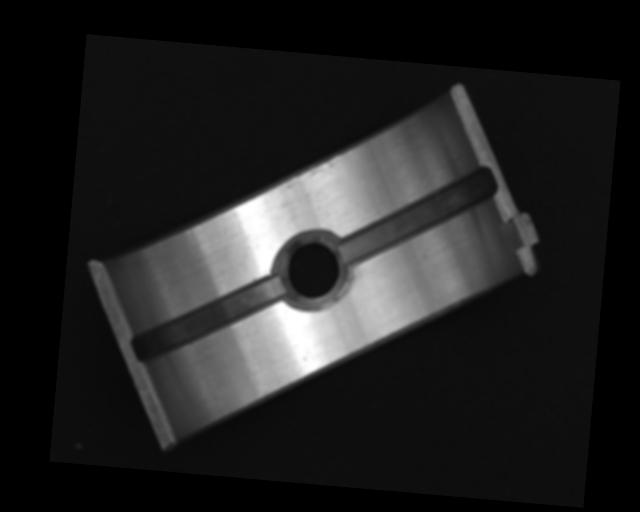gap: (339, 151, 498, 276), (132, 265, 286, 374)
hole: (278, 233, 346, 315)
